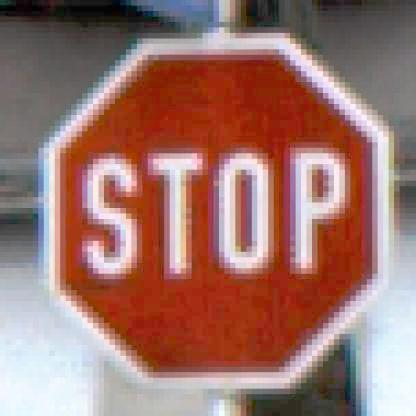Stop Sign: (38, 30, 395, 395)
